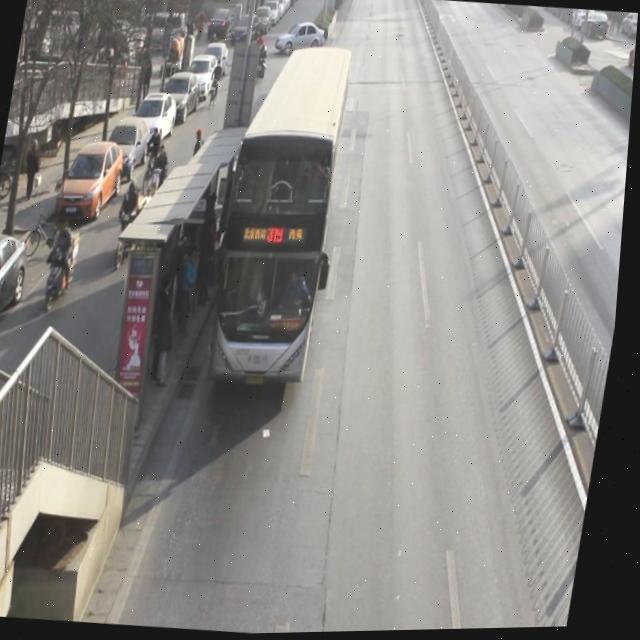van: (207, 42, 359, 384)
